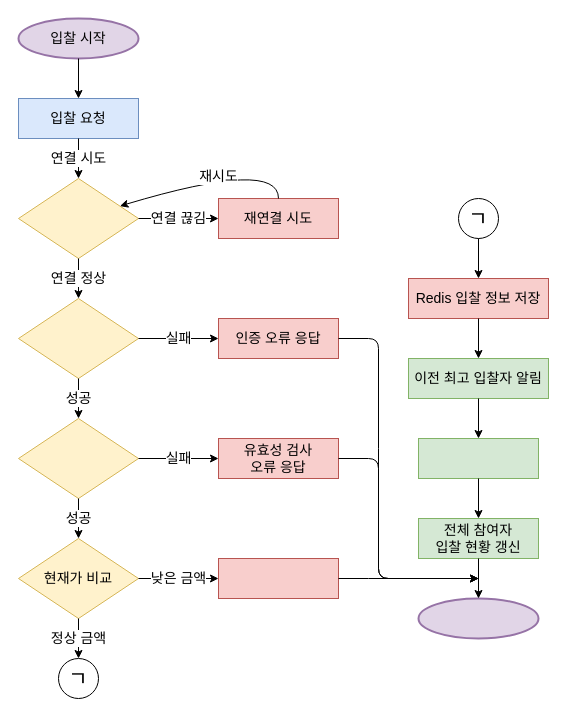
Some shapes in this 566 by 716 pixel diagram are drawn without their labels. The shapes that lost their labels are listed below. From the top down, each one's centre as x and y in pixels, then its label:
the point at 78,218: WebSocket 연결 확인
the point at 78,338: 토큰 검증
the point at 78,458: 입찰 유효성 검사
the point at 478,458: 현재 입찰자 알림
the point at 278,578: 금액 오류 응답
the point at 478,618: 입찰 종료
